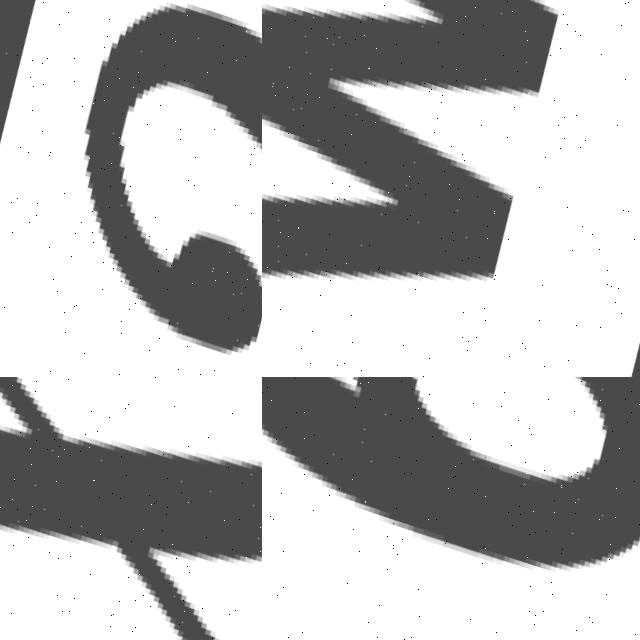2: (0, 0, 262, 377)
6: (262, 377, 640, 619)
W: (262, 0, 619, 377)
X: (0, 377, 262, 640)
